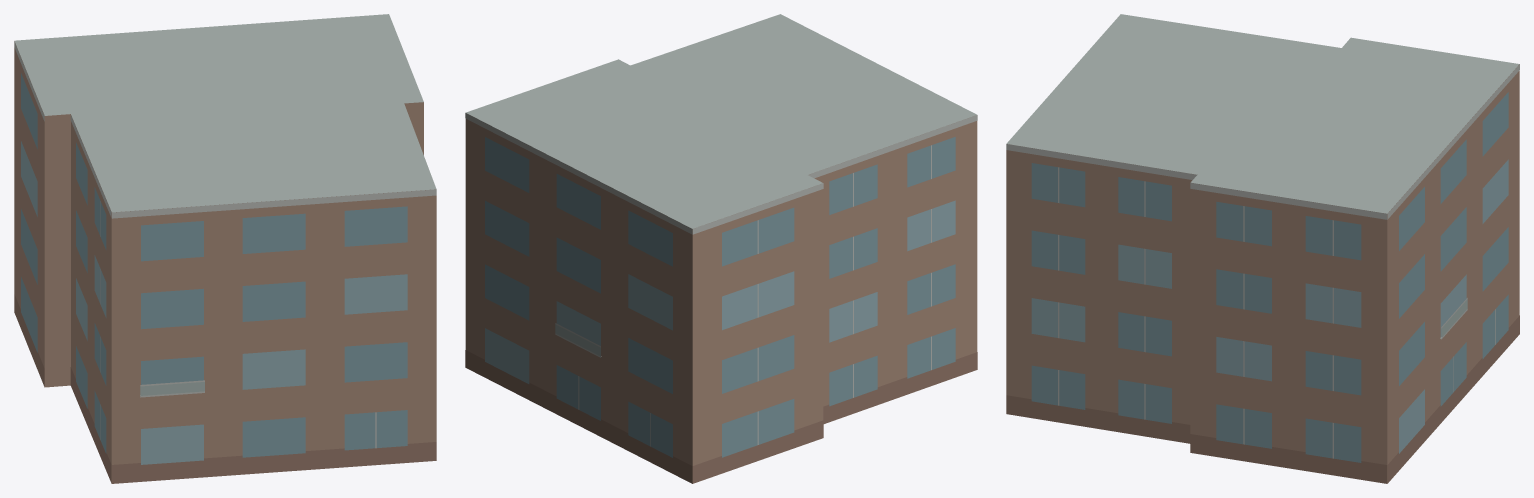
File: survey-upis-32509111.glb
The picture shows the model from 3 angles, left to right: view 1: azimuth 30°, elevation 25°; view 2: azimuth 150°, elevation 25°; view 3: azimuth 270°, elevation 25°; orthographic projection. The views are drawn at different scales.
Parts seen in each view (by area): view 1: survey-upis-32509111.tmp; view 2: survey-upis-32509111.tmp; view 3: survey-upis-32509111.tmp.
Boxes of the visible parts, x1,y1,x2,y2 form: survey-upis-32509111.tmp: (14, 14, 436, 483); survey-upis-32509111.tmp: (465, 14, 977, 483); survey-upis-32509111.tmp: (1006, 14, 1519, 483).
Bounding box in the file's own units: 16.97 × 10.7 × 18.44.
